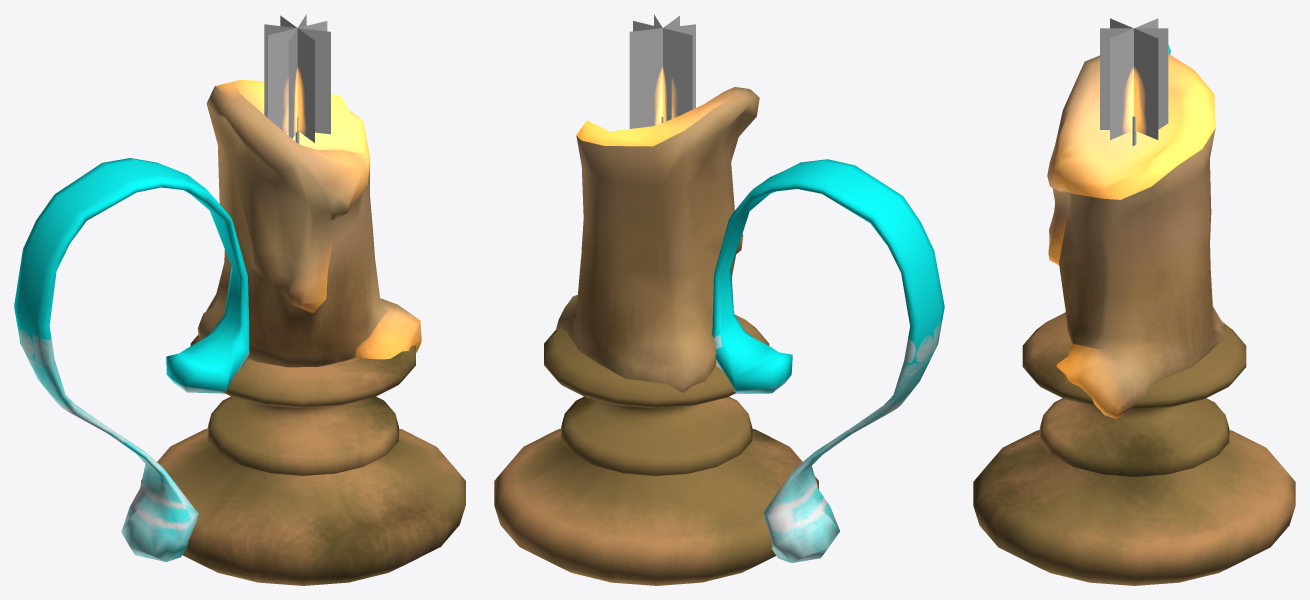
File: Candle.fbx
3 renders of one model, left to right at view 1: azimuth 30°, elevation 25°; view 2: azimuth 150°, elevation 25°; view 3: azimuth 270°, elevation 25°, orthographic.
Visible parts, largest first — view 1: g.019, g.017, g.018, g.002, g.001, g.003, g; view 2: g.019, g.017, g.018, g, g.001, g.003, g.002; view 3: g.019, g.017, g, g.002, g.003.
Part boxes in pixels (bbox=[...]): g.019: bbox=[141, 335, 465, 585]; g.017: bbox=[198, 79, 421, 367]; g.018: bbox=[14, 158, 249, 561]; g.002: bbox=[264, 24, 330, 134]; g.001: bbox=[268, 21, 327, 133]; g.003: bbox=[280, 15, 314, 142]; g: bbox=[288, 14, 306, 138]; g.019: bbox=[494, 314, 818, 585]; g.017: bbox=[556, 87, 759, 392]; g.018: bbox=[712, 159, 944, 562]; g: bbox=[629, 24, 695, 128]; g.001: bbox=[633, 21, 692, 118]; g.003: bbox=[645, 16, 679, 126]; g.002: bbox=[654, 14, 671, 122]; g.019: bbox=[973, 312, 1295, 585]; g.017: bbox=[1047, 54, 1226, 418]; g: bbox=[1110, 18, 1158, 139]; g.002: bbox=[1110, 18, 1158, 139]; g.003: bbox=[1100, 28, 1168, 129].
Size of the model in its own units: 158 by 181 by 106.
